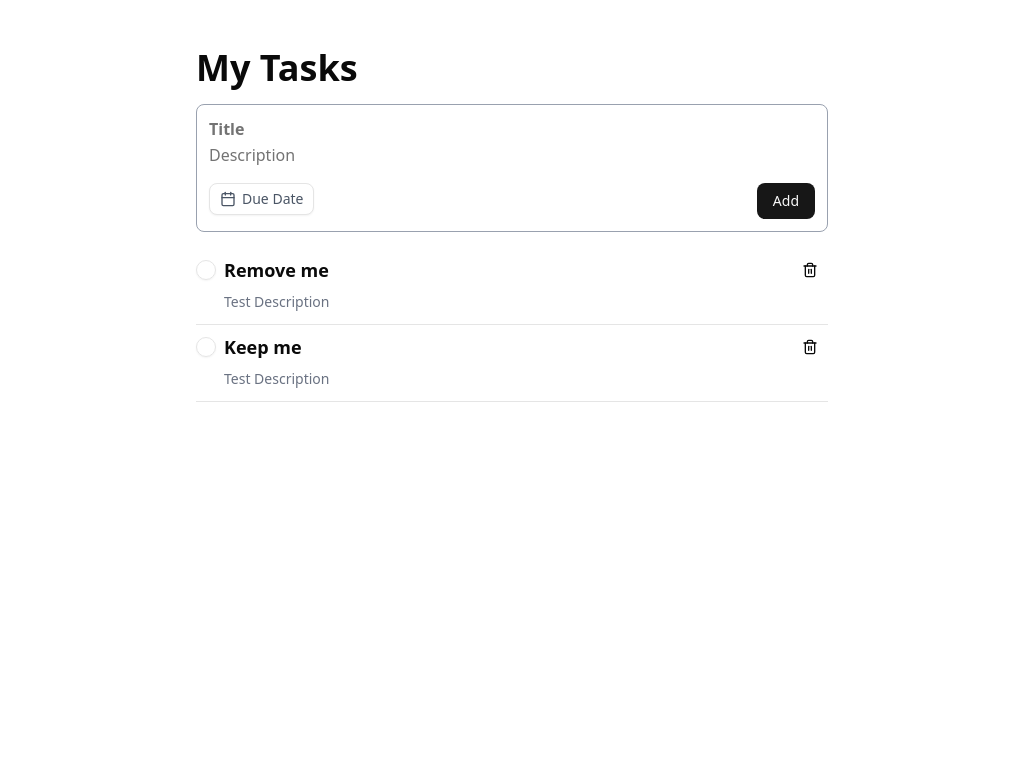
Test: App › deletes a task
Expected: the heading "My Tasks" is shown, [196,43,358,92]
Expected: the text "Remove me" is shown, [224,258,329,282]
Click the 1st button named "delete task" at (810,270), box [792,252,828,288]
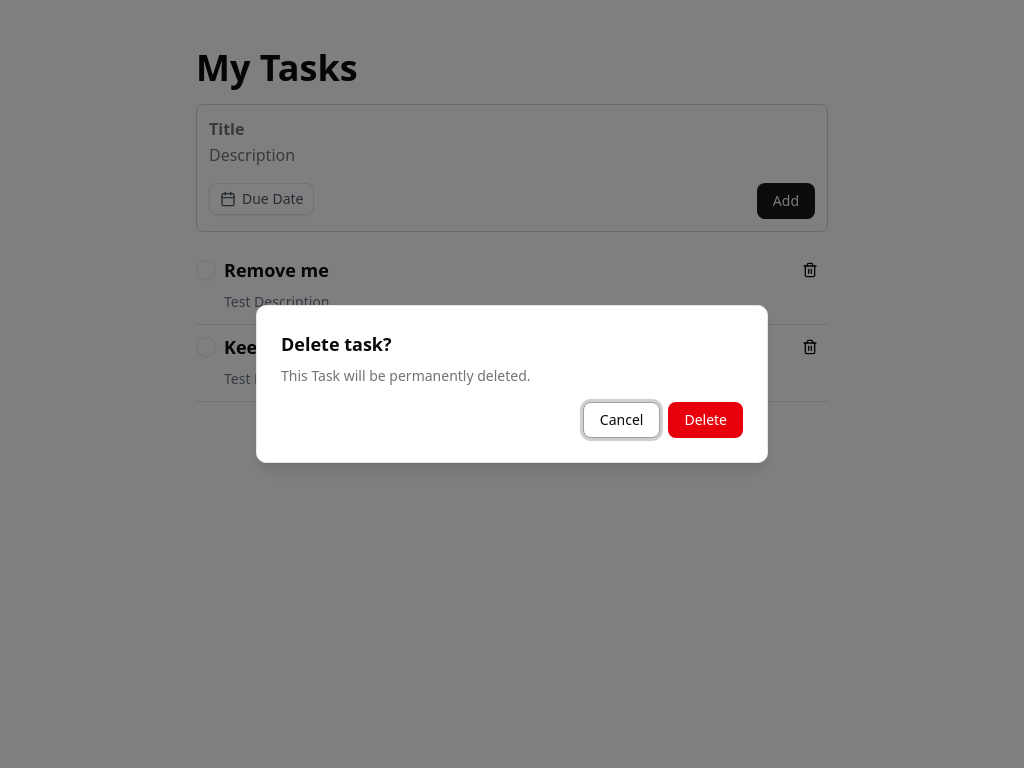
Click the button "Delete" at (706,420), box [668,402,743,438]
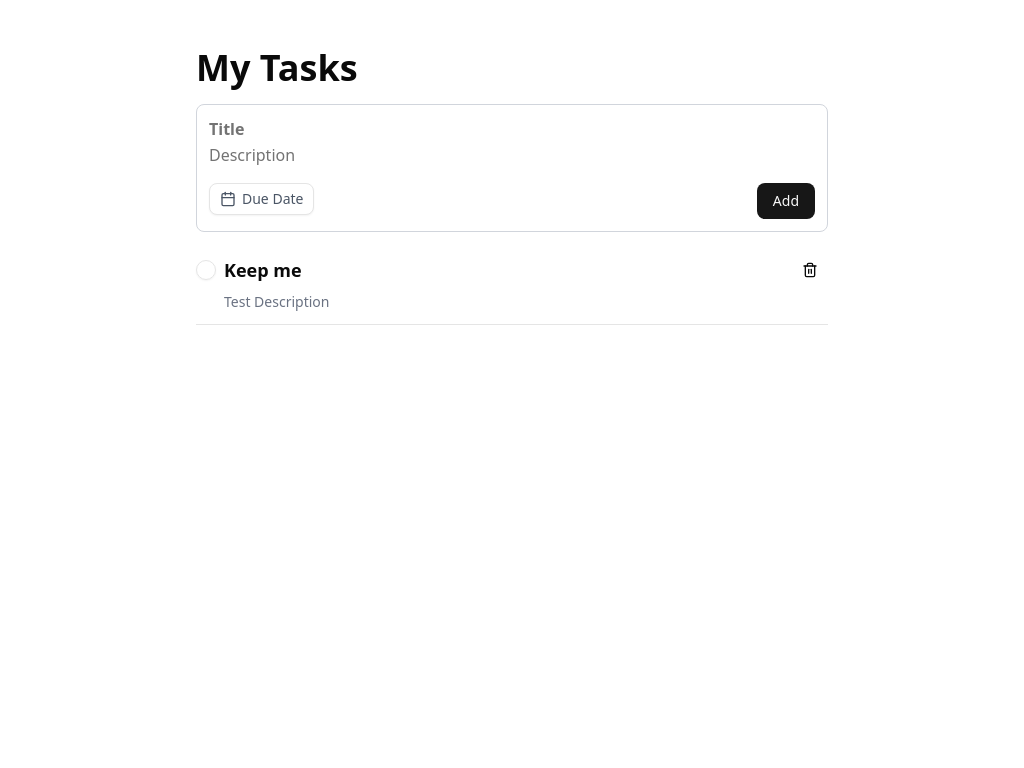
Expected: the text "Keep me" is shown, [224,258,302,282]
Expected: the button "Remove me" is gone
